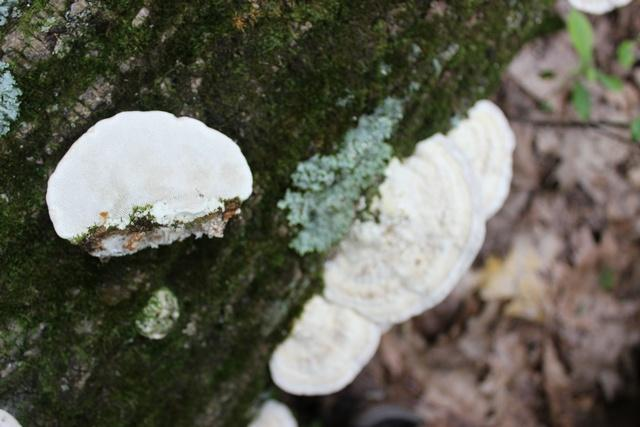poisonous_mushroom: (277, 107, 517, 414), (44, 107, 254, 260)
